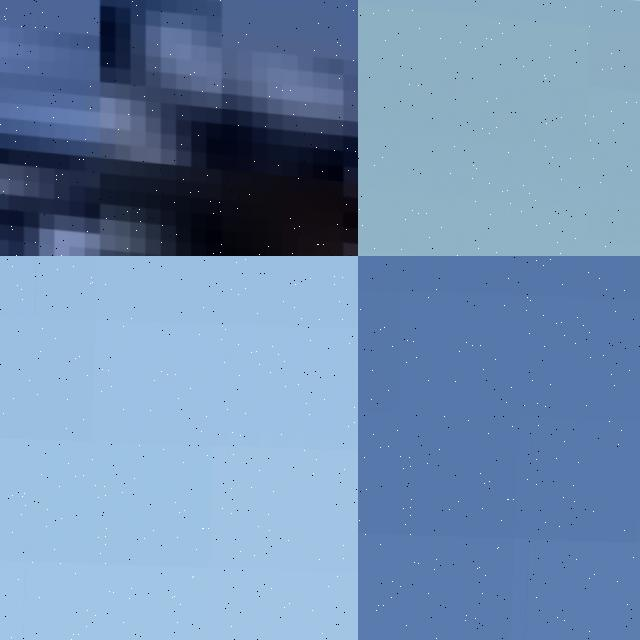drone: (0, 0, 358, 256), (358, 0, 640, 256)
